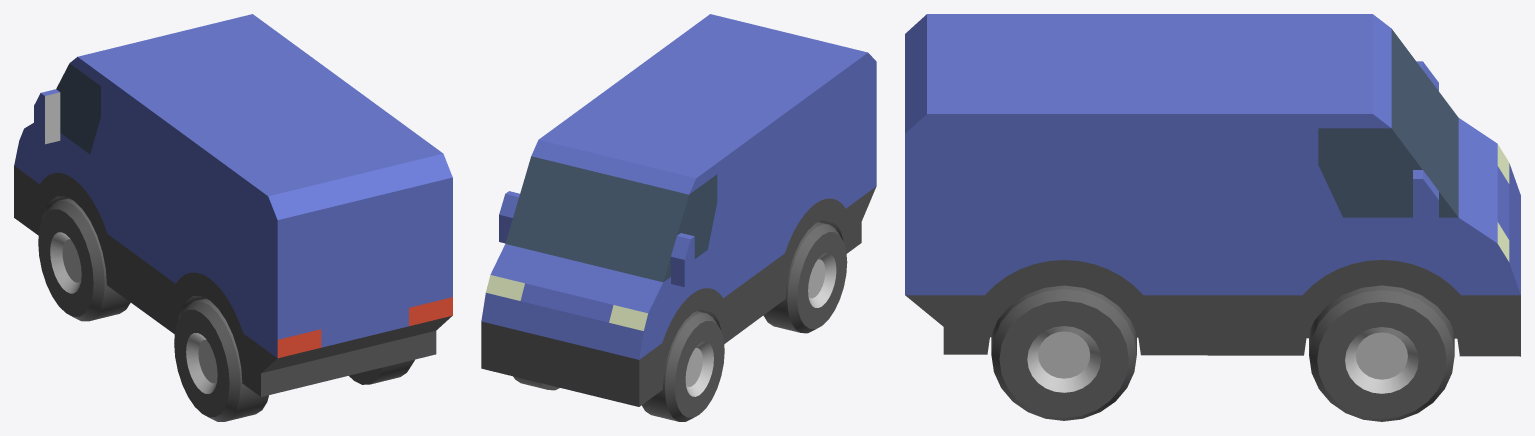
The model's file is carVan.fbx.
3 renders of one model, left to right at view 1: azimuth 30°, elevation 25°; view 2: azimuth 150°, elevation 25°; view 3: azimuth 270°, elevation 25°, orthographic. The views are drawn at different scales.
Parts seen in each view (by area): view 1: body 15, wheelBackLeft 15, wheelFrontLeft 15, wheelBackRight 15; view 2: body 15, wheelBackLeft 15, wheelFrontLeft 15; view 3: body 15, wheelFrontRight 15, wheelBackRight 15.
Part boxes in pixels (x1,y1,x2,y2): body 15: (14,14,452,396); wheelBackLeft 15: (174,298,268,421); wheelFrontLeft 15: (38,198,130,321); wheelBackRight 15: (349,359,414,384); body 15: (481,14,876,406); wheelBackLeft 15: (763,222,847,333); wheelFrontLeft 15: (642,311,724,421); body 15: (905,14,1520,356); wheelFrontRight 15: (1309,285,1454,421); wheelBackRight 15: (991,285,1136,420).
Size of the model in its own units: 5.35 by 6.57 by 11.85.
